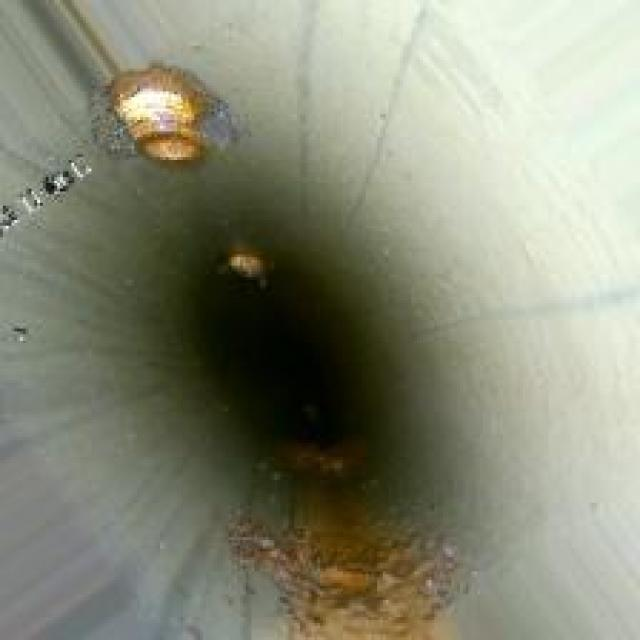ferrule: (106, 54, 226, 174), (217, 240, 269, 283)
